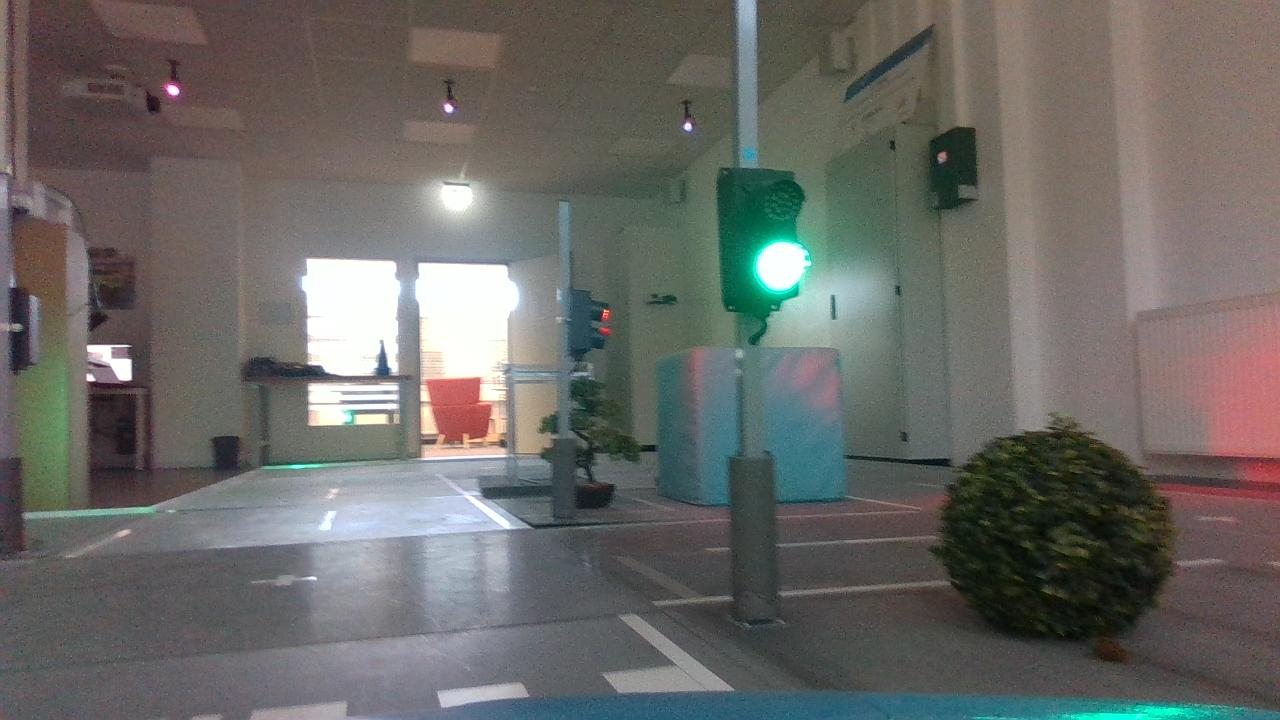traffic_light_green: (711, 159, 814, 320)
